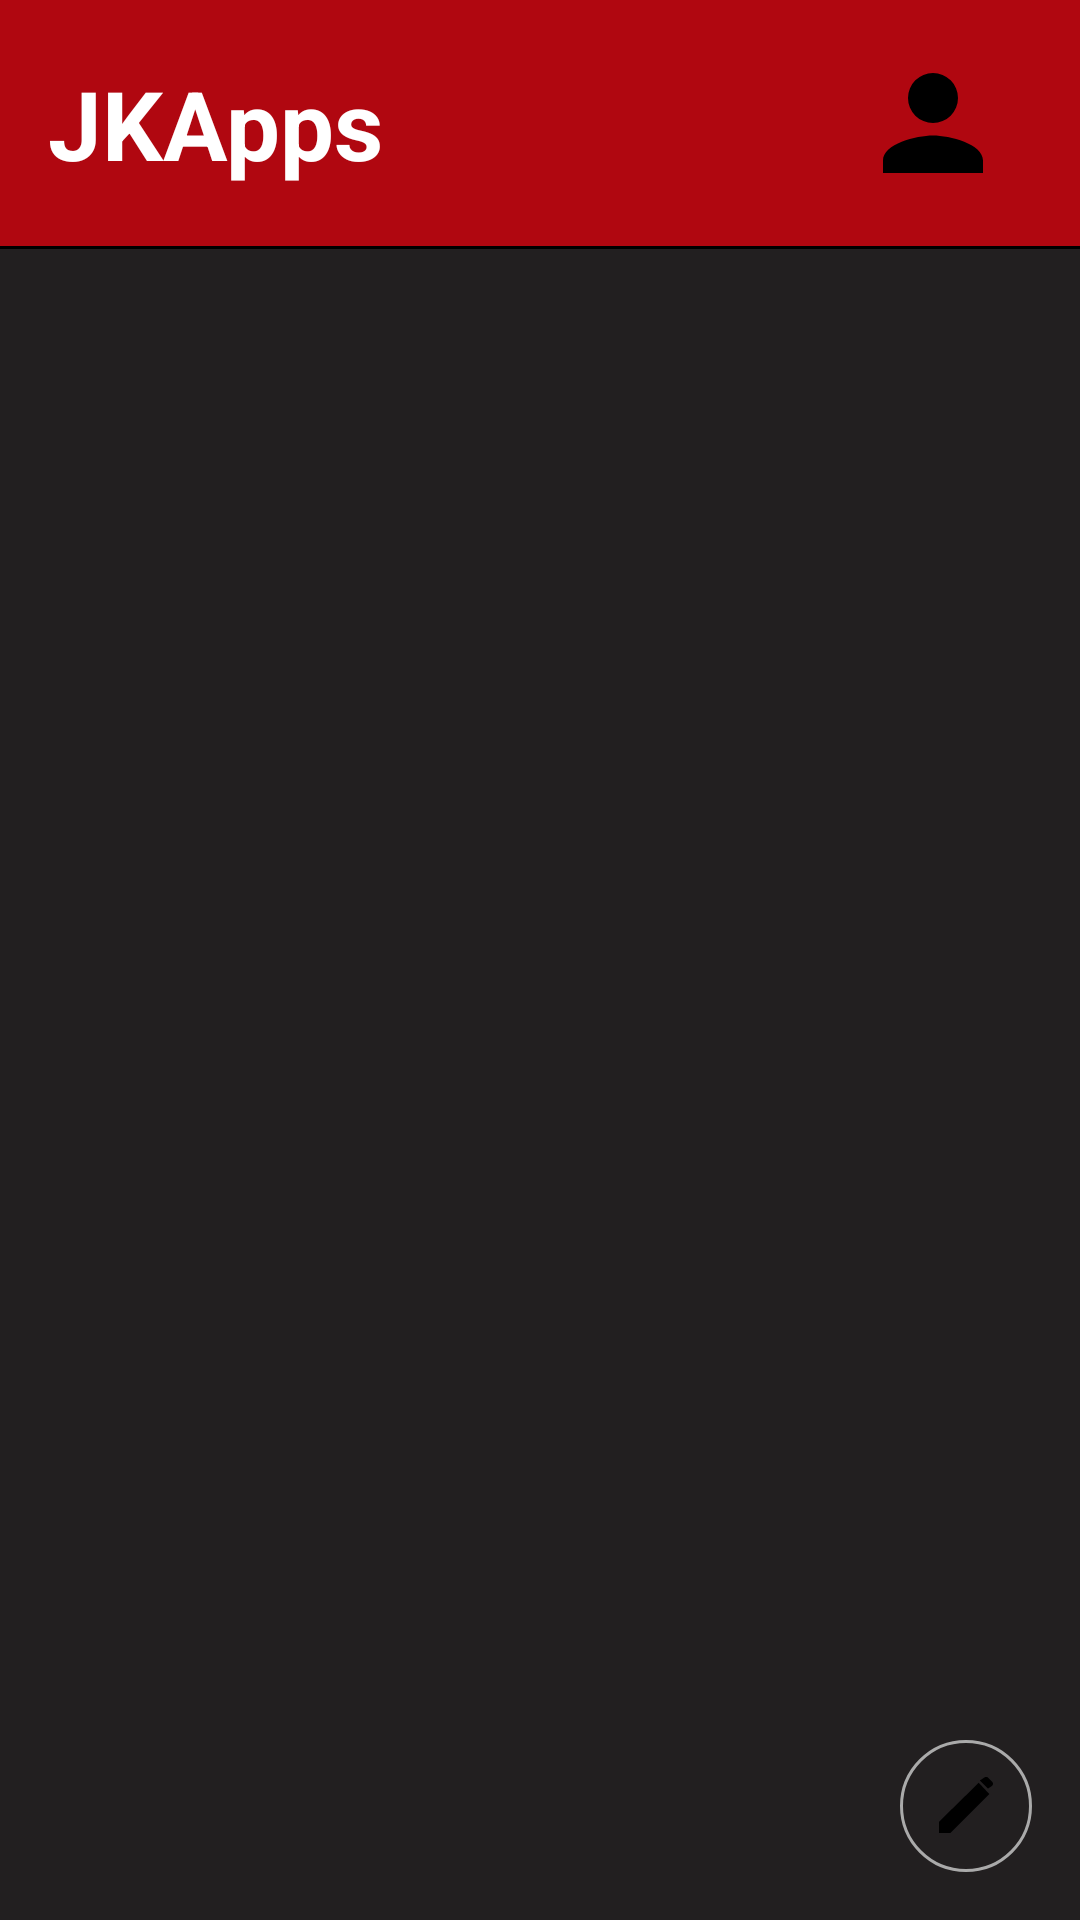

Icon click points for this 1080 × 1920 phone screenshot, format point (x, y):
Buat Postingan: point (966, 1806)
person: point (933, 123)
